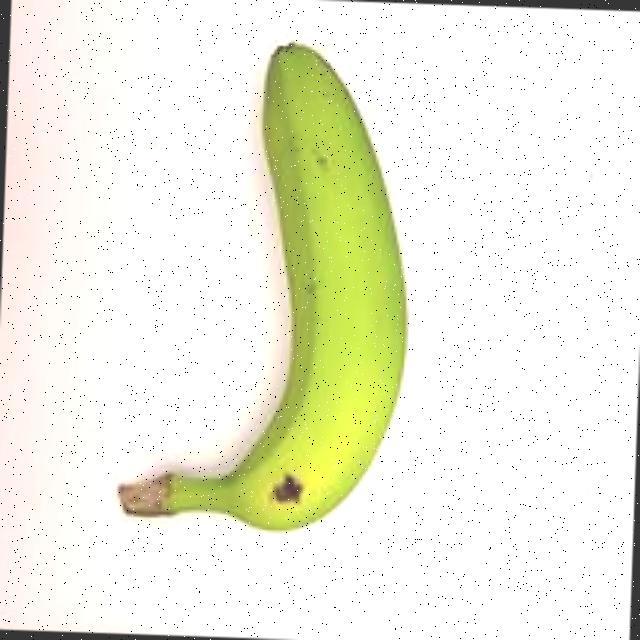Unripe: (85, 11, 454, 562)
